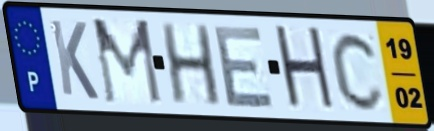C: (329, 28, 388, 114)
E: (212, 23, 277, 109)
H: (271, 22, 340, 116), (158, 22, 225, 109)
K: (47, 16, 102, 103)
M: (89, 16, 165, 107)
